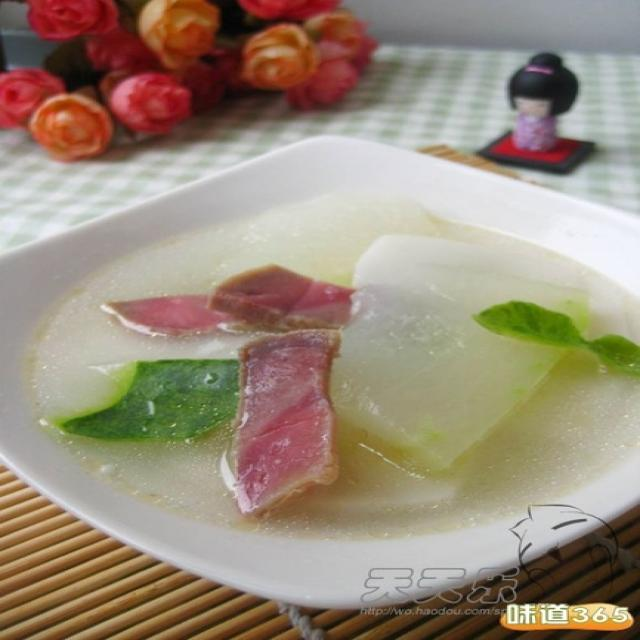汤锅炖物: (60, 215, 618, 538)
